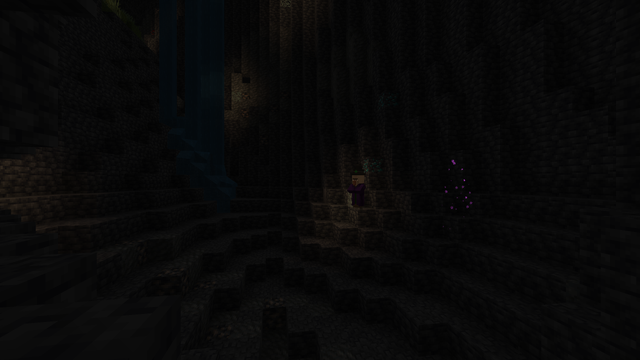sorcieres: (351, 173, 365, 209)
